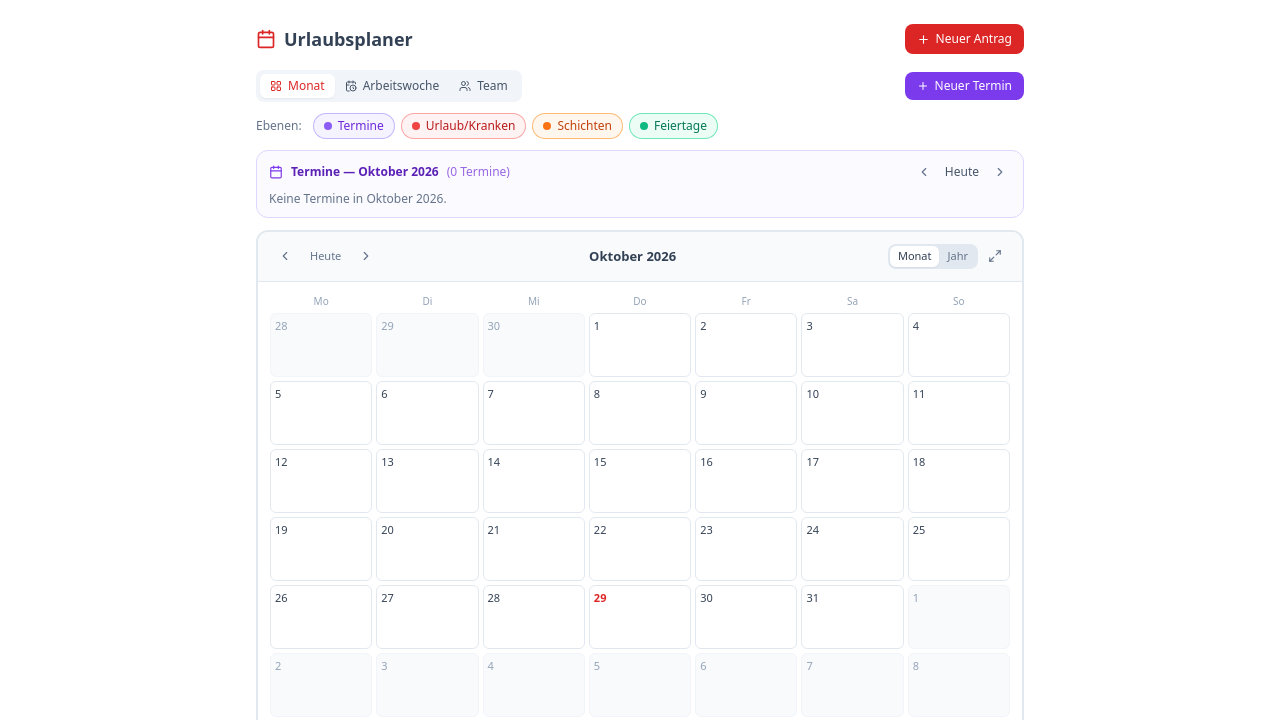
VacationPage › opens the leave-request form when the page-level "Neuer Antrag" button is clicked
Click the button "Neuer Antrag": (964,39) x1=905 y1=24 x2=1024 y2=54
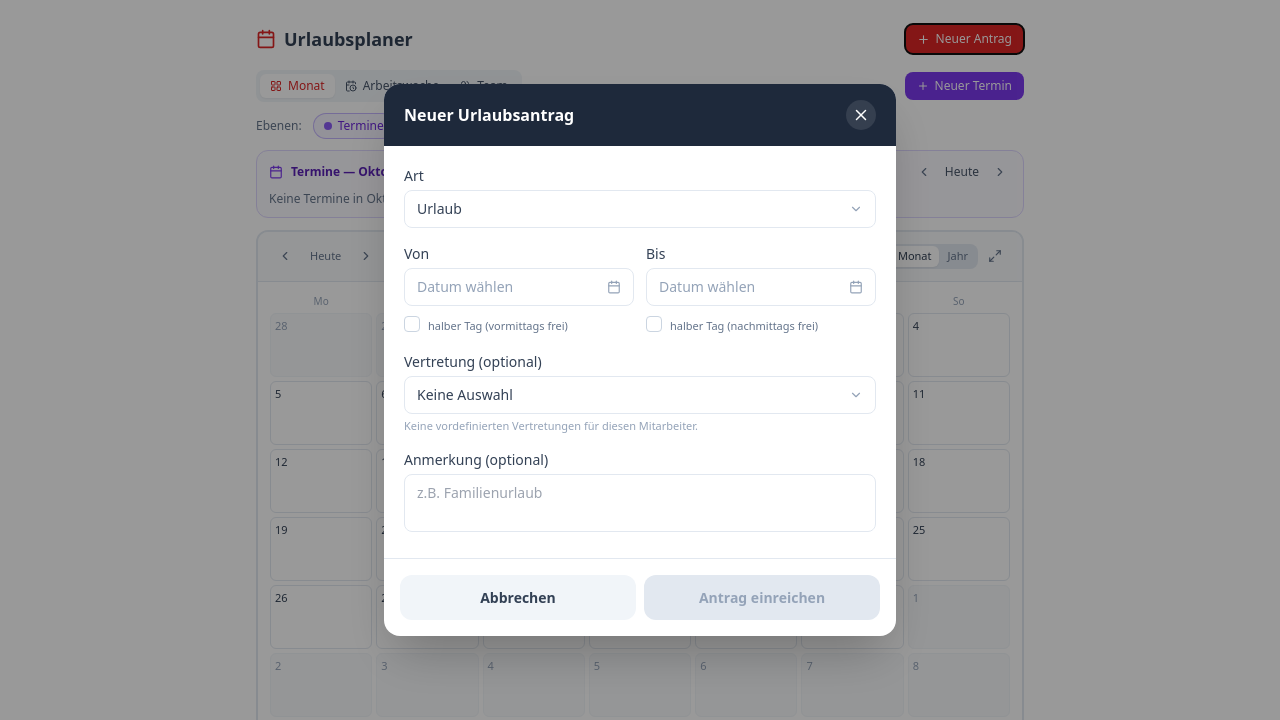
Now the text "Neuer Urlaubsantrag" is shown, box x1=404 y1=103 x2=574 y2=127
